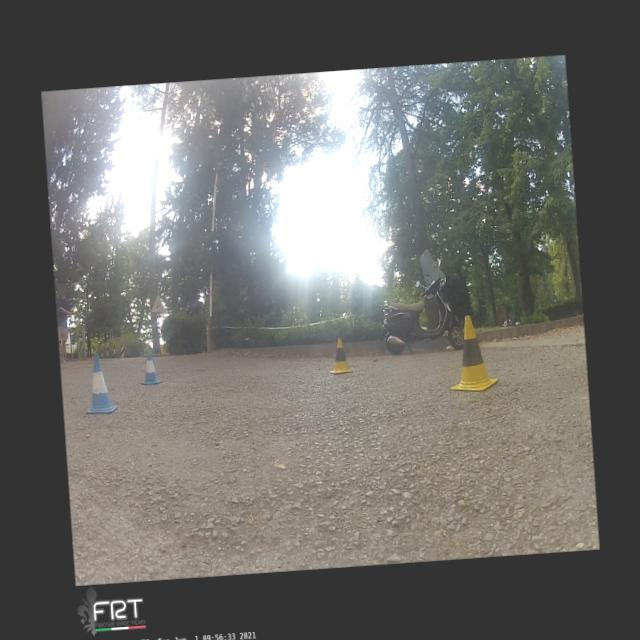blue_cone: (82, 352, 118, 414), (138, 351, 162, 385)
yellow_cone: (444, 313, 498, 393), (327, 336, 352, 374)
